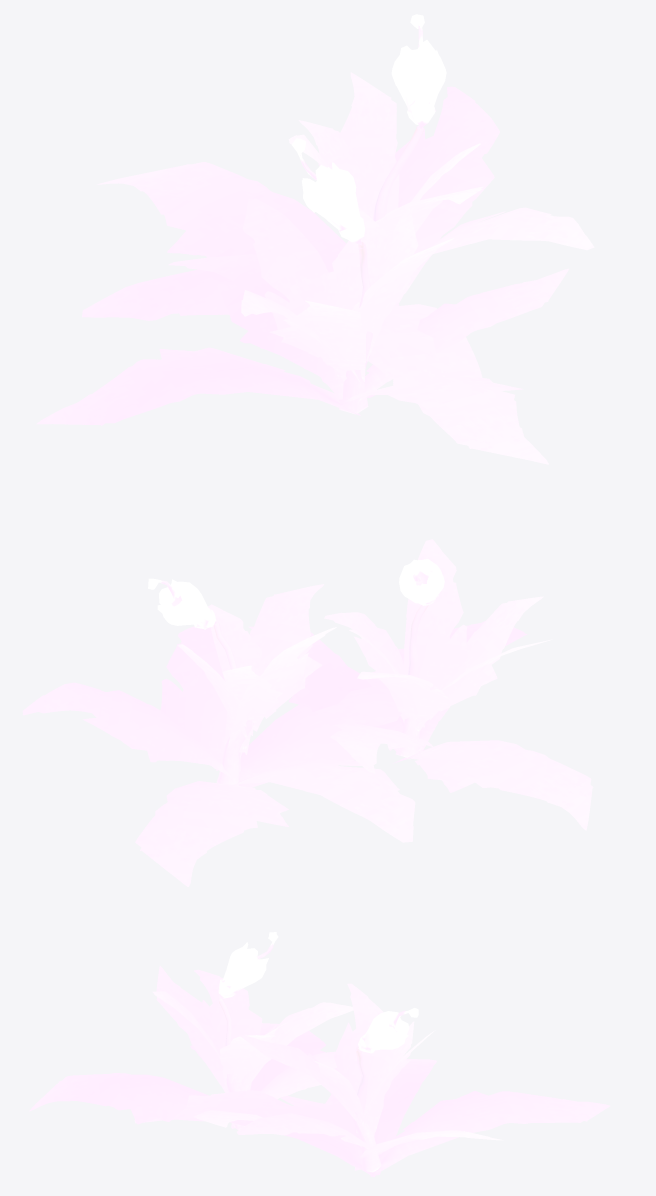
3 views of the same model, one above another, from view 1: azimuth 30°, elevation 25°; view 2: azimuth 150°, elevation 25°; view 3: azimuth 270°, elevation 25° (orthographic). The views are drawn at different scales.
Visible parts, largest first — view 1: SM_GF_Fox_Glove_03_LOD0; view 2: SM_GF_Fox_Glove_03_LOD0; view 3: SM_GF_Fox_Glove_03_LOD0.
Part boxes in pixels (x1,y1,x2,y2): SM_GF_Fox_Glove_03_LOD0: (36, 14, 594, 464); SM_GF_Fox_Glove_03_LOD0: (22, 539, 593, 886); SM_GF_Fox_Glove_03_LOD0: (29, 932, 610, 1177).
Bounding box in the file's own units: 0.569 × 0.2358 × 0.7129.
Materials: 1 (1 with a texture image).
